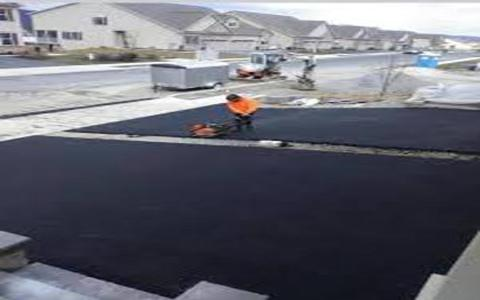Proper road: (33, 136, 309, 247), (322, 106, 471, 145)
